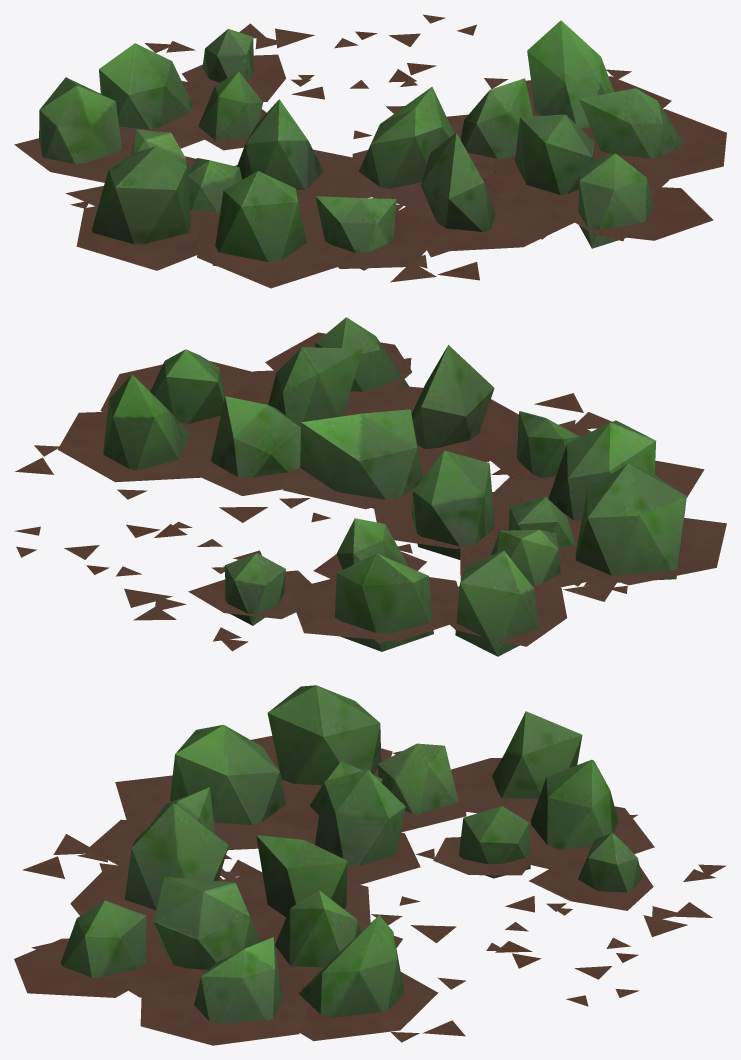
The model's file is uranium-ore-rich.glb.
The picture shows the model from 3 angles, top to bottom: view 1: azimuth 30°, elevation 25°; view 2: azimuth 150°, elevation 25°; view 3: azimuth 270°, elevation 25°; orthographic projection. The views are drawn at different scales.
Visible parts, largest first — view 1: uranium-ore-rich; view 2: uranium-ore-rich; view 3: uranium-ore-rich.
Boxes of the visible parts, x1=… form: uranium-ore-rich: x1=14, y1=14, x2=726, y2=288; uranium-ore-rich: x1=14, y1=317, x2=726, y2=656; uranium-ore-rich: x1=14, y1=685, x2=726, y2=1045.
Size of the model in its own units: 1.61 by 0.2601 by 1.53.
1 material, 1 textured.
